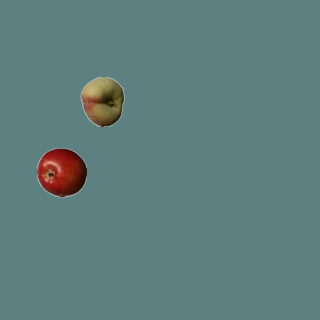Apple Braeburn: (36, 147, 86, 197)
Peach Flat: (77, 76, 127, 126)
